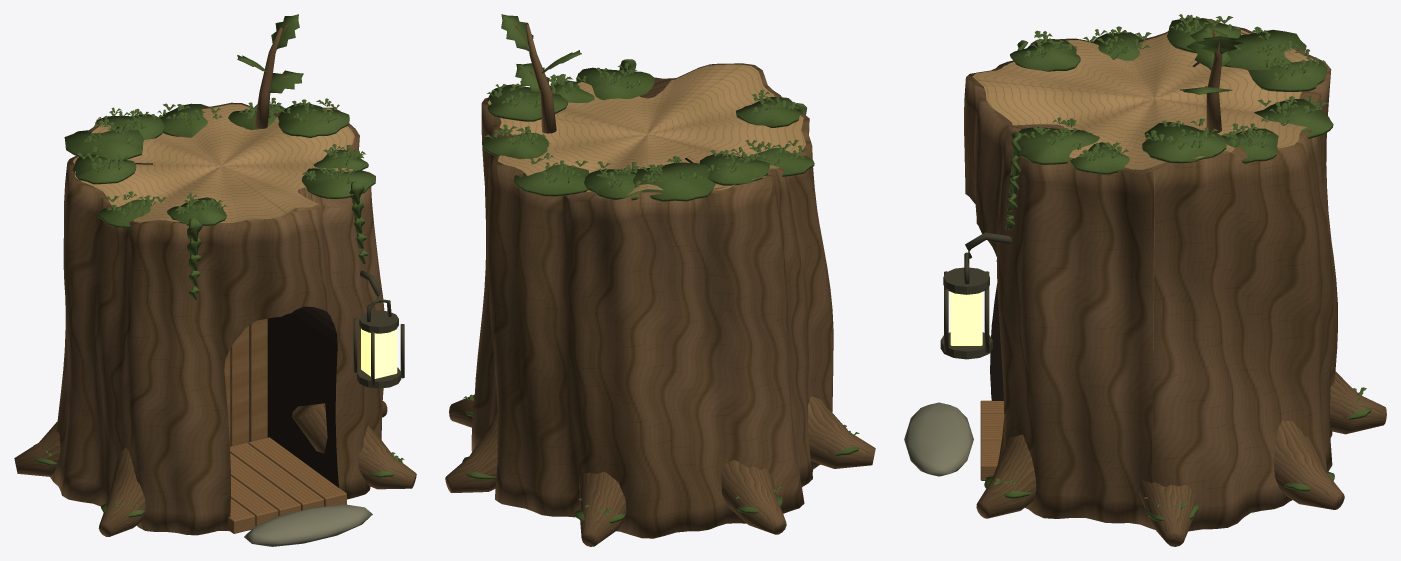
The model's file is HomeLevel1.fbx.
The picture shows the model from 3 angles, left to right: view 1: azimuth 30°, elevation 25°; view 2: azimuth 150°, elevation 25°; view 3: azimuth 270°, elevation 25°; orthographic projection. The views are drawn at different scales.
Parts seen in each view (by area): view 1: HomeLevel1; view 2: HomeLevel1; view 3: HomeLevel1.
Boxes of the visible parts, <box> form: HomeLevel1: <box>14,14,416,546</box>; HomeLevel1: <box>445,14,875,546</box>; HomeLevel1: <box>904,14,1386,546</box>.
Bounding box in the file's own units: 3.16 × 3.63 × 3.32.
2 materials, 1 textured.
